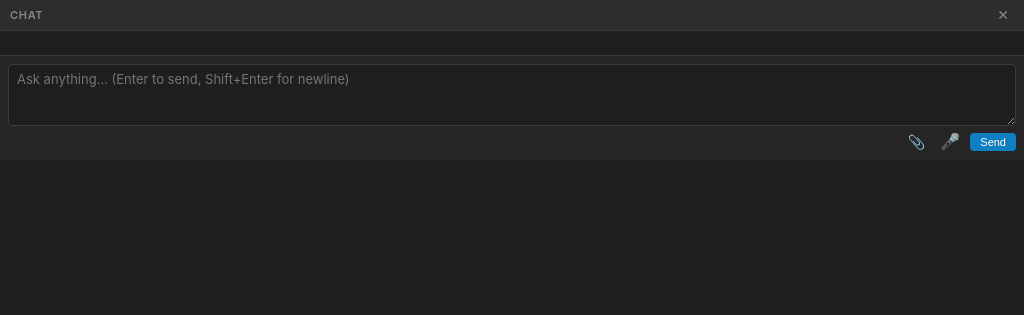
it: ChatPanel › does not render raw tool args or results in chat tool pills
The image size is (1024, 315).
In the text box with placeholder "Ask anything… (Enter to send, Shift+Enter for newline)": (512, 95) [8, 64, 1016, 126], type "probe connector"
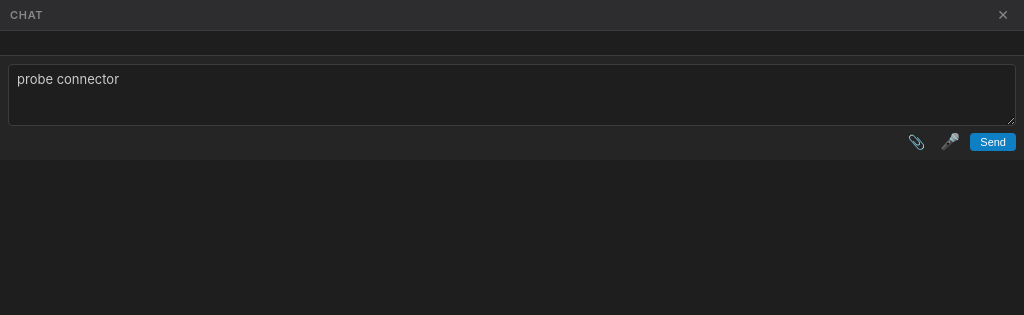
Click the button "Send": (993, 142) [970, 133, 1016, 151]
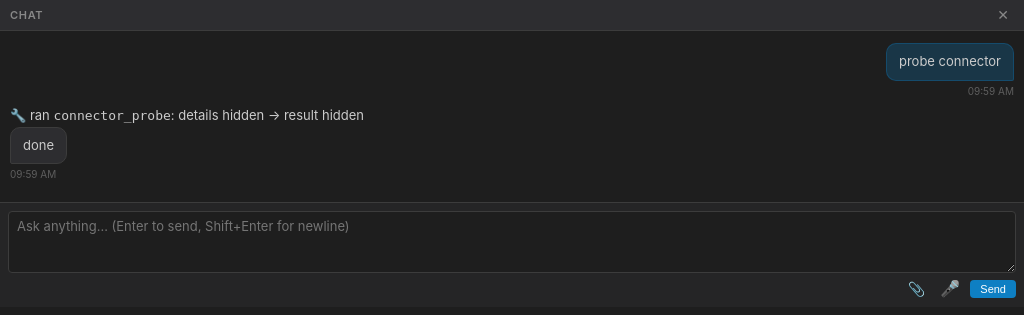
Result: the element with test id "tool-pill" shows "connector_probe" at [53, 108, 171, 122]
Result: the element with test id "tool-pill" shows "details hidden" at [178, 106, 264, 122]
Result: the element with test id "tool-pill" shows "result hidden" at [284, 106, 364, 122]
